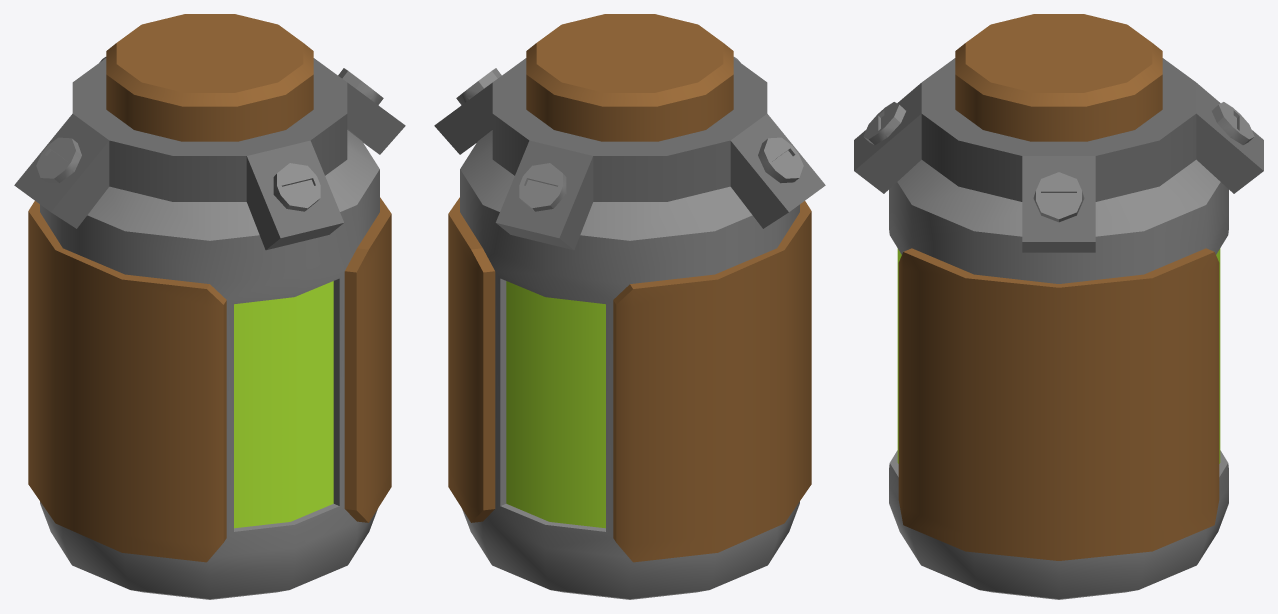
Rendered from PickupTank.glb.
3 views of the same model, side by side, from view 1: azimuth 30°, elevation 25°; view 2: azimuth 150°, elevation 25°; view 3: azimuth 270°, elevation 25° (orthographic).
Visible parts, largest first — view 1: Pickup_Tank; view 2: Pickup_Tank; view 3: Pickup_Tank.
Part boxes in pixels (x1,y1,x2,y2): Pickup_Tank: [14, 14, 405, 599]; Pickup_Tank: [434, 14, 825, 599]; Pickup_Tank: [854, 14, 1263, 599].
Size of the model in its own units: 0.2007 by 0.2647 by 0.2007.
